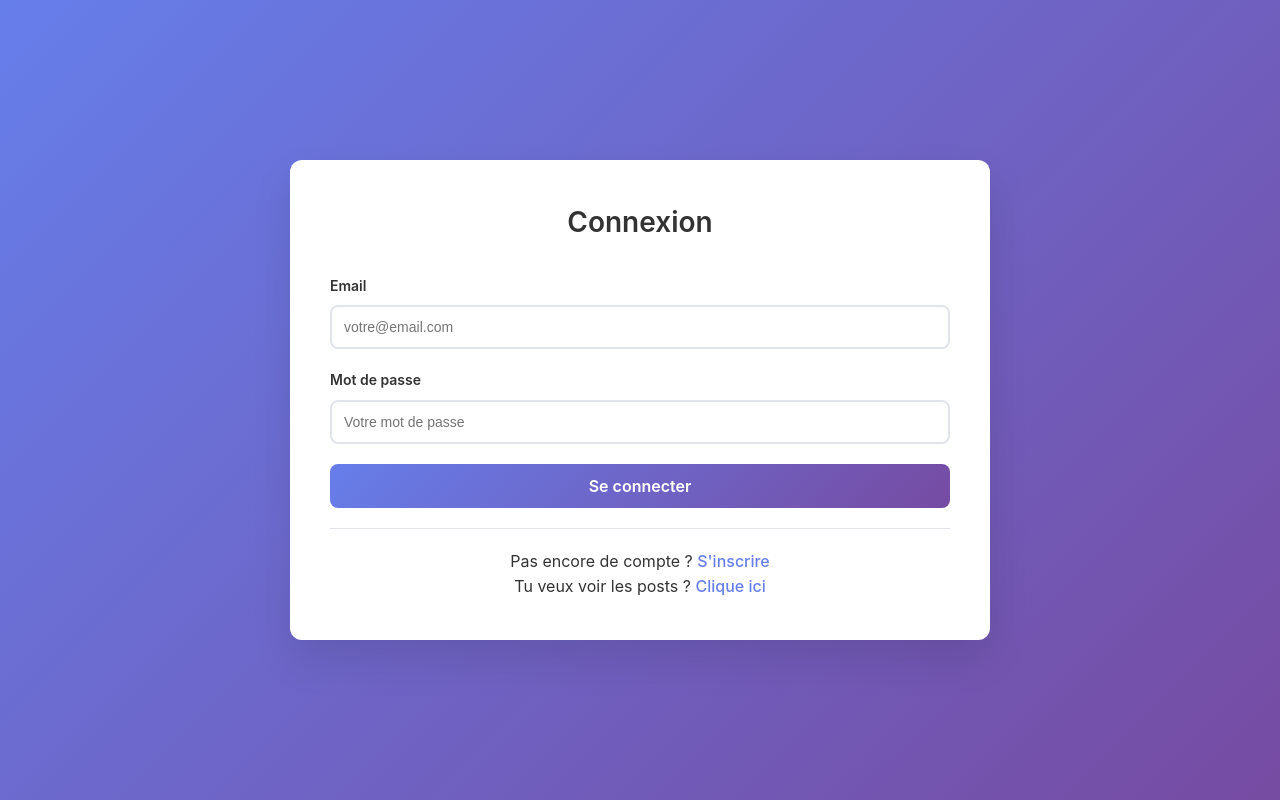
Login Component › should show error message on login failure
Type "wrong@example.com" into the field with test id "login-email". click: point(640, 327)
box: [330,305,950,349]
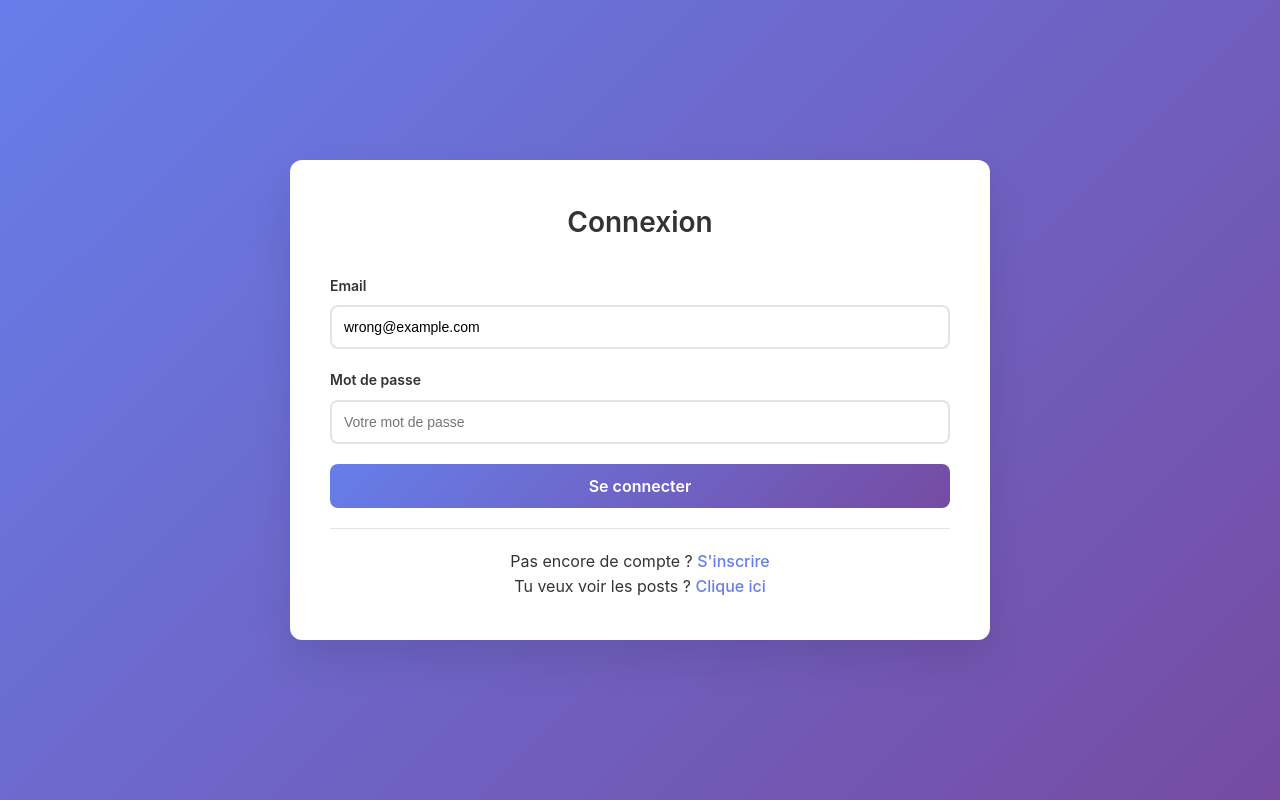
Type "wrongpassword" into the password field with test id "login-password". click: point(640, 422)
box: [330,400,950,444]
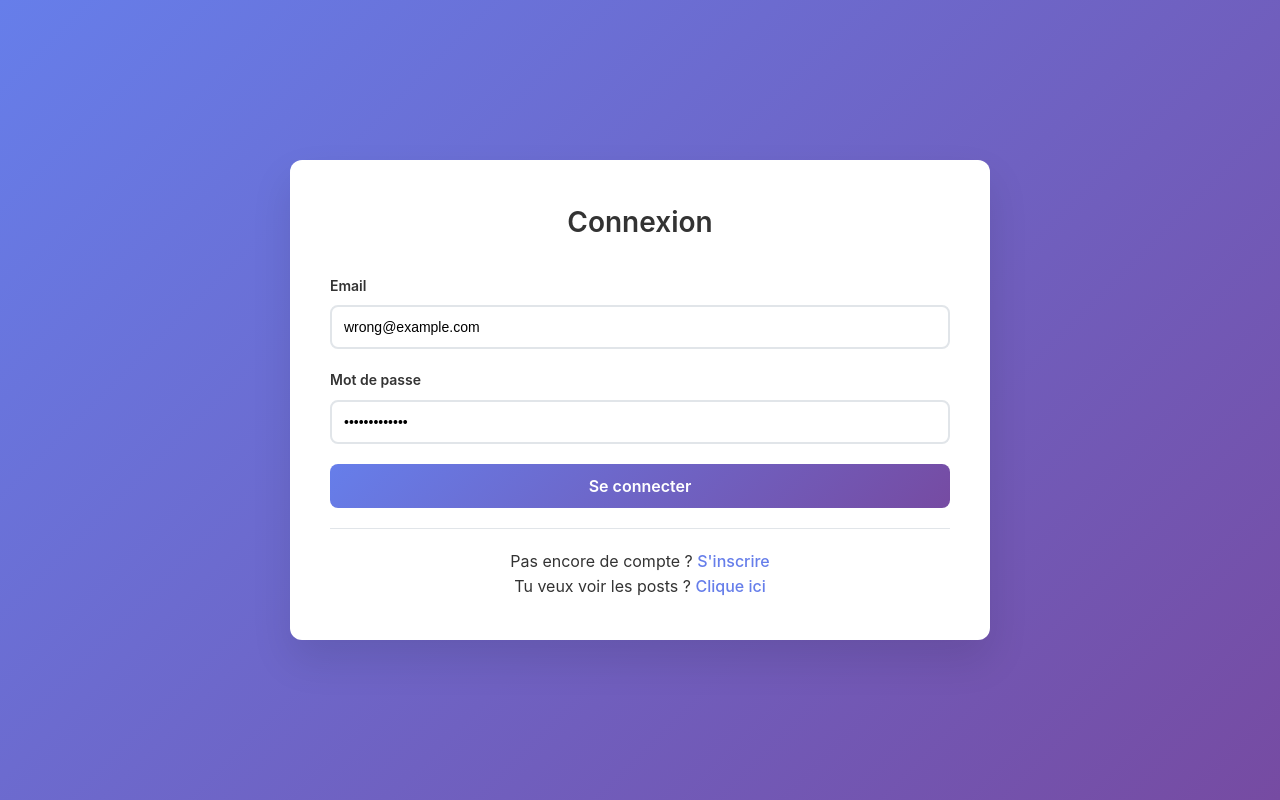
Click the button with test id "login-submit-button". click: point(640, 486)
box: [330,464,950,508]
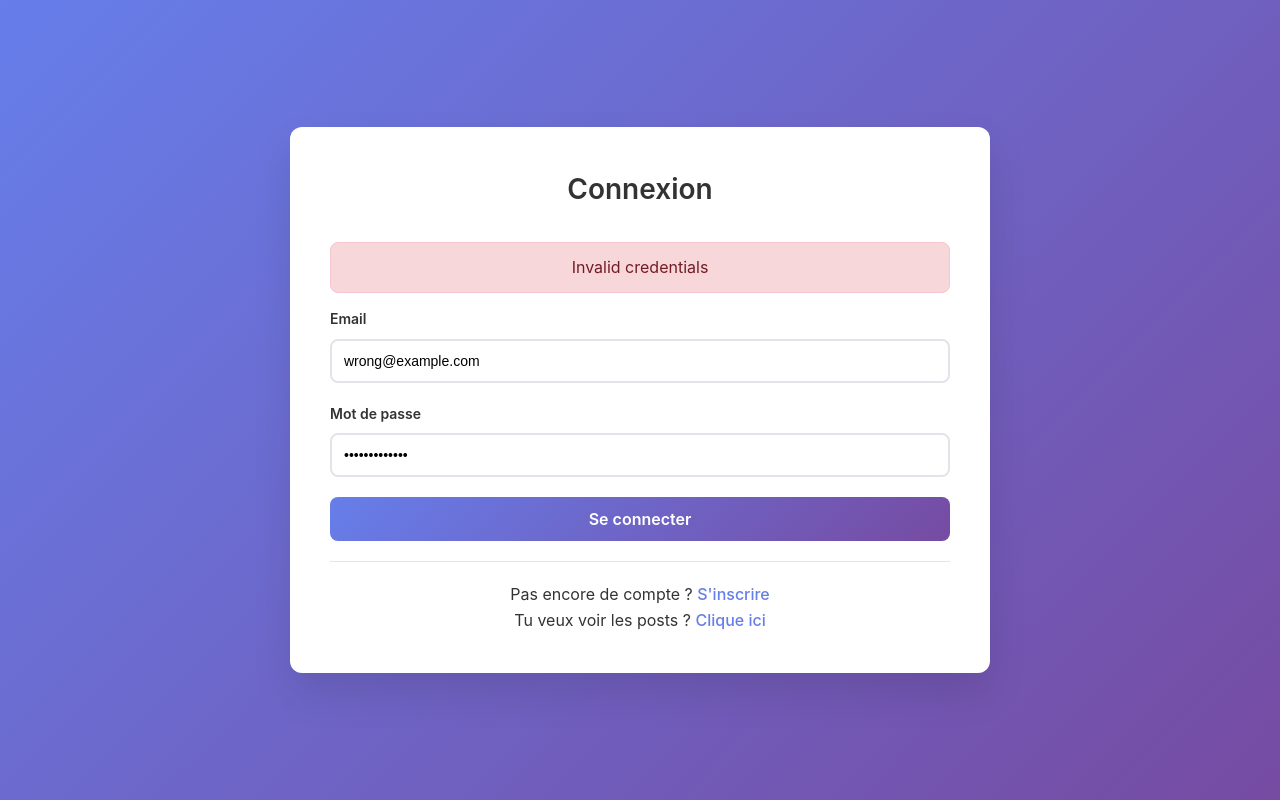
Check: the text "Invalid credentials" is shown, box [330,242,950,293]
